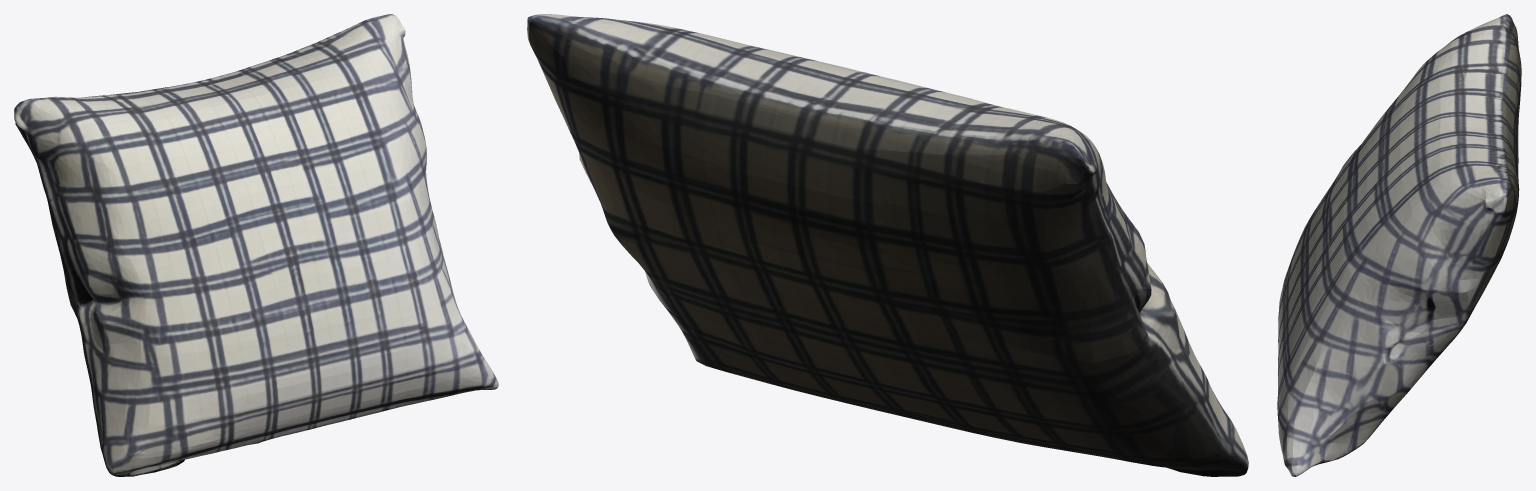
The model's file is a45e76d6-2ff3-48a9-b09c-7971fdc842b4.glb.
The picture shows the model from 3 angles, left to right: view 1: azimuth 30°, elevation 25°; view 2: azimuth 150°, elevation 25°; view 3: azimuth 270°, elevation 25°; orthographic projection. The views are drawn at different scales.
Parts seen in each view (by area): view 1: world; view 2: world; view 3: world.
Boxes of the visible parts, x1,y1,x2,y2 form: world: [14, 14, 498, 476]; world: [527, 14, 1248, 476]; world: [1277, 14, 1521, 476].
Size of the model in its own units: 0.9997 by 0.7461 by 0.5549.
1 material, 1 textured.
